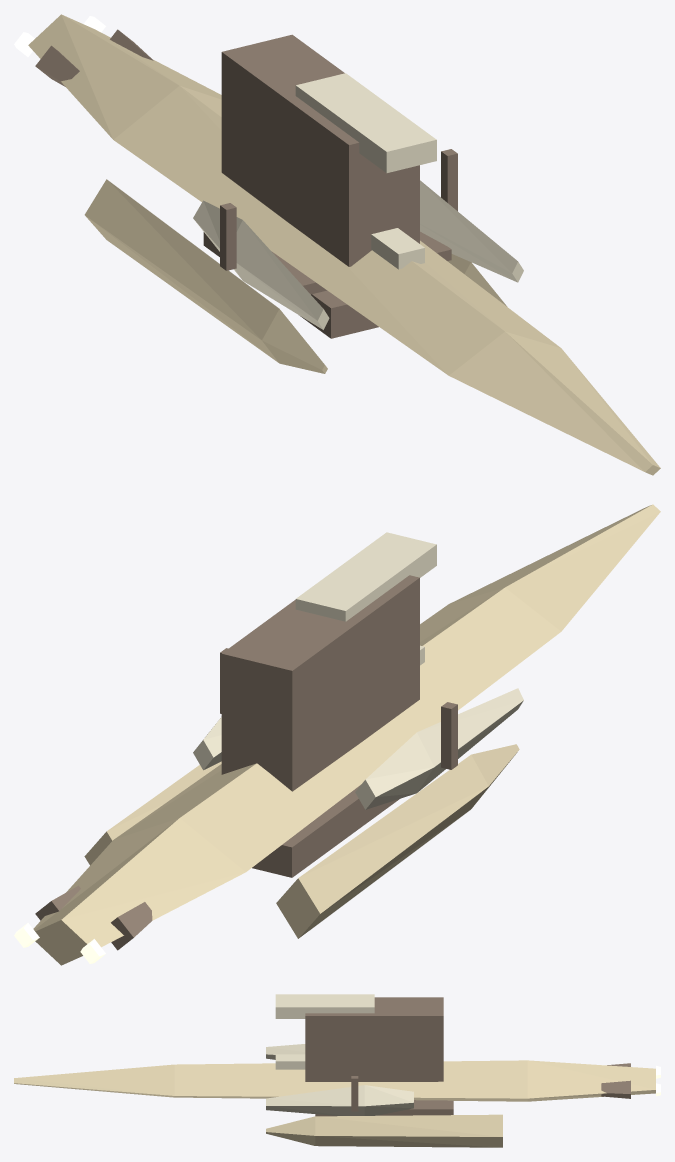
3 renders of one model, top to bottom at view 1: azimuth 30°, elevation 25°; view 2: azimuth 150°, elevation 25°; view 3: azimuth 270°, elevation 25°, orthographic. The views are drawn at different scales.
Size of the model in its own units: 2.75 by 2.5 by 12.05.
